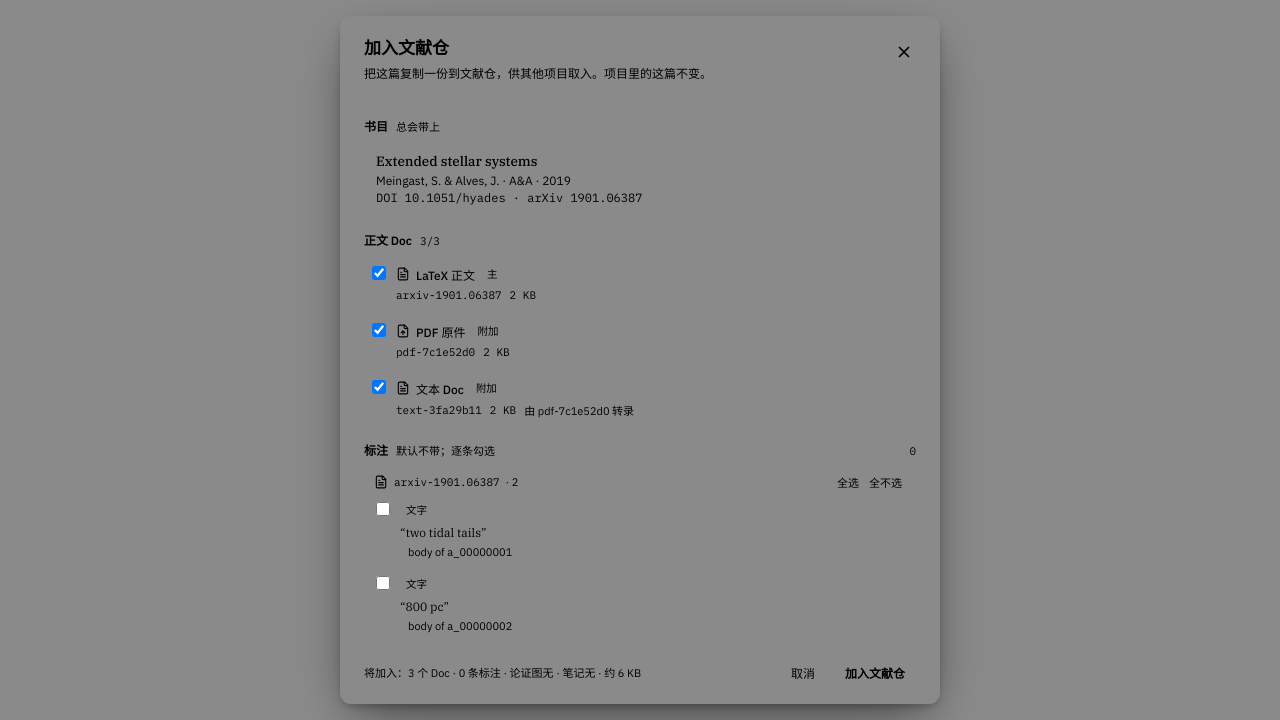
Test: add to Shelf dialog › a busy Doc is reported as busy (system state, not a content problem) and the project as unchanged
Click the button "加入文献仓" at (875, 672), box top-left (834, 656), bottom-right (916, 688)
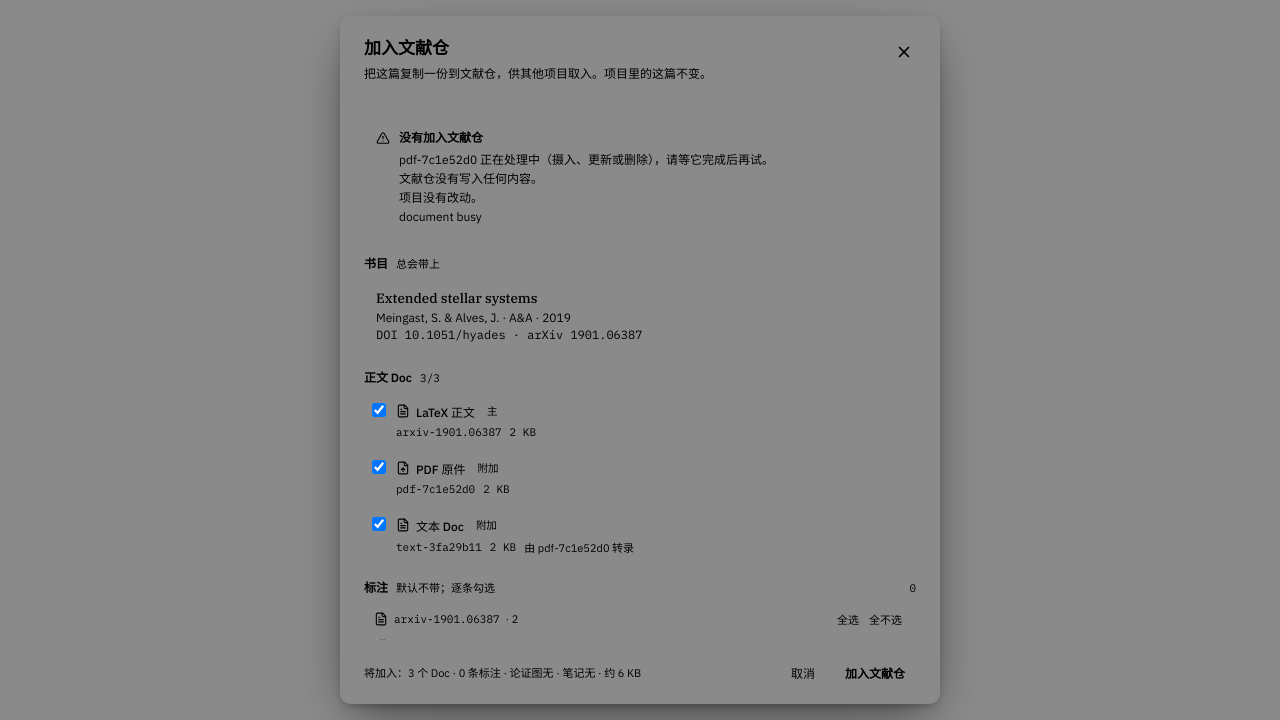
Now the message shows "pdf-7c1e52d0 正在处理中", box top-left (399, 152), bottom-right (774, 167)
Now the message shows "项目没有改动。", box top-left (399, 190), bottom-right (483, 205)
